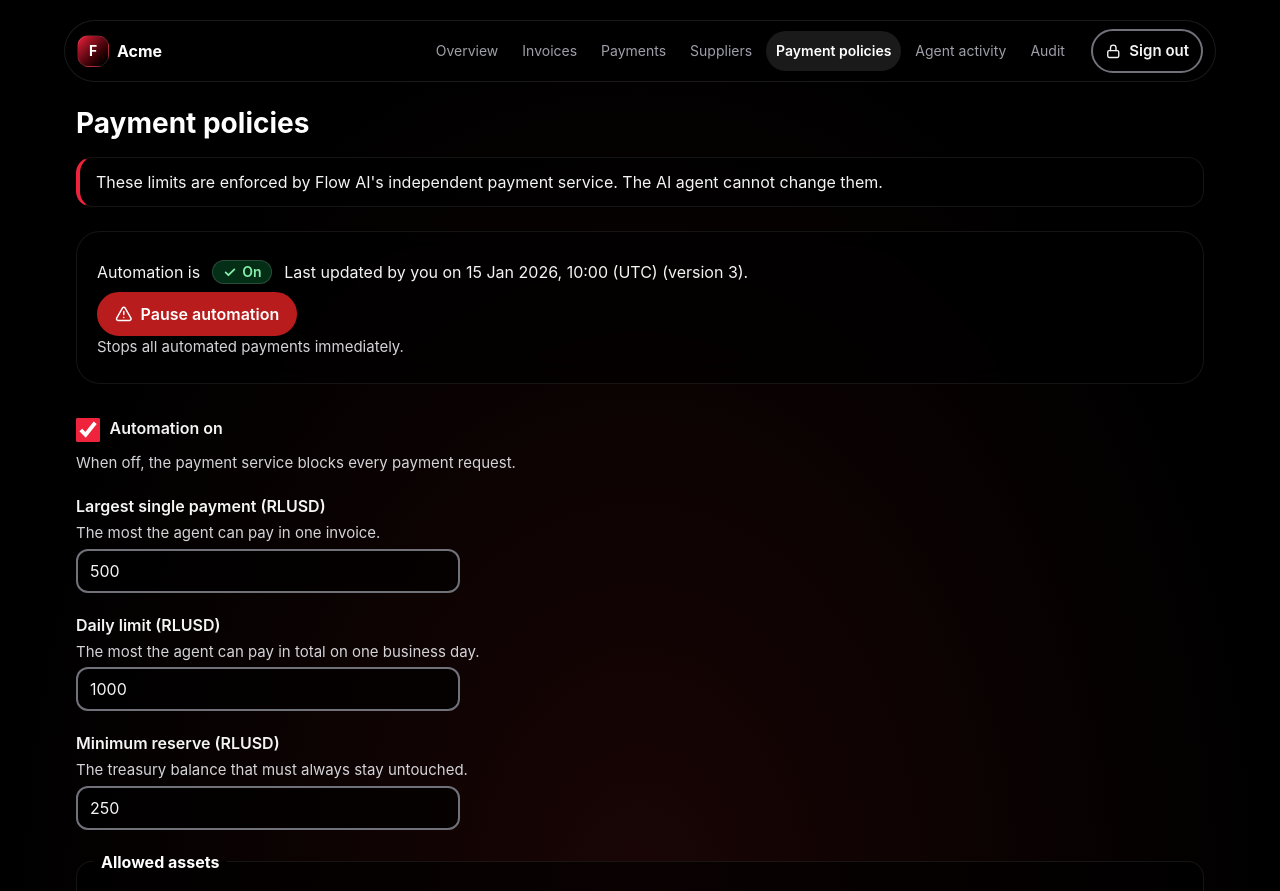
keyboard-only journeys › policy: a validation error moves focus to the error summary and its link reaches the field
Replace the text in the field labelled "Largest single payment (RLUSD)" with "5000" at coordinates (268, 570), box [76,548,460,592]
(page scrolled)
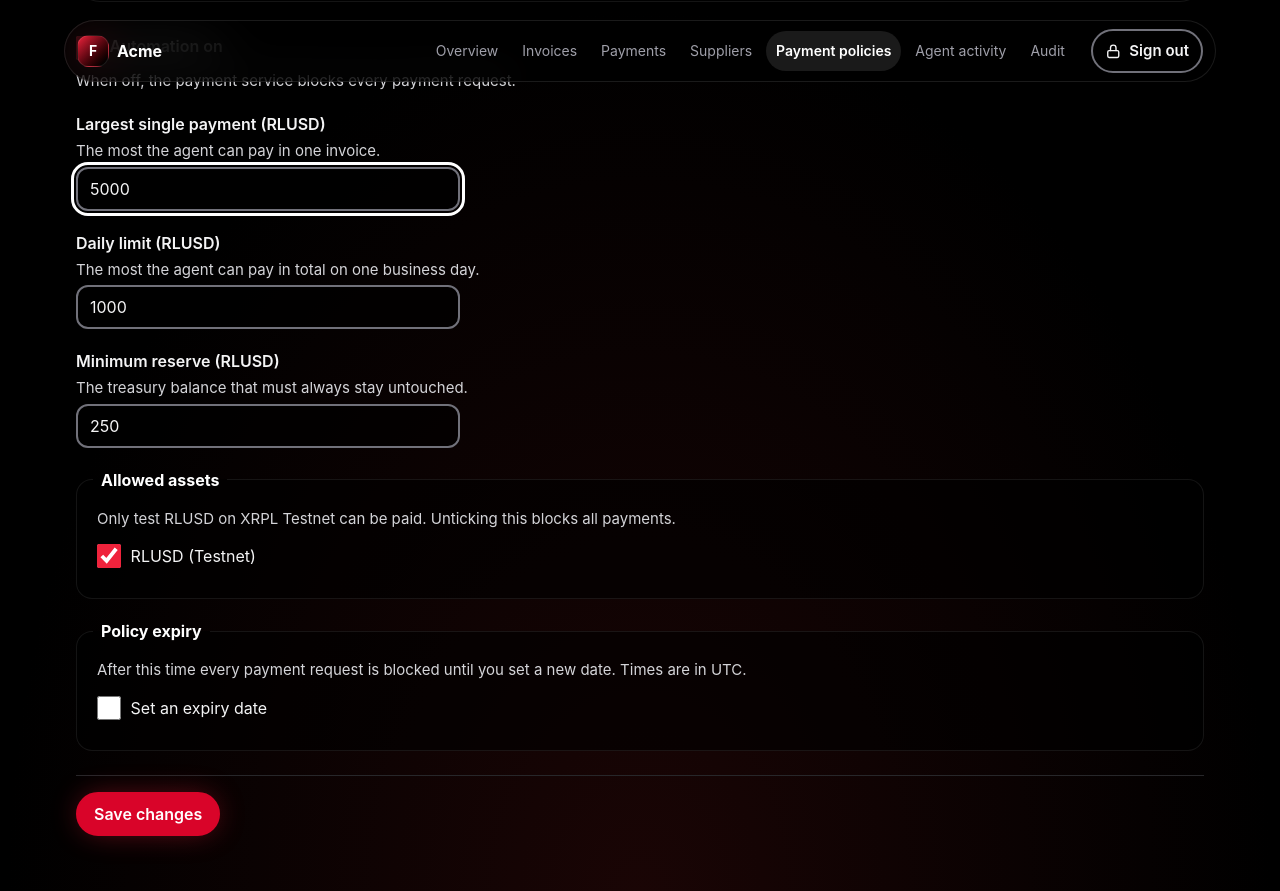
Click the button "Save changes" at coordinates (148, 814), box [76,792,220,836]
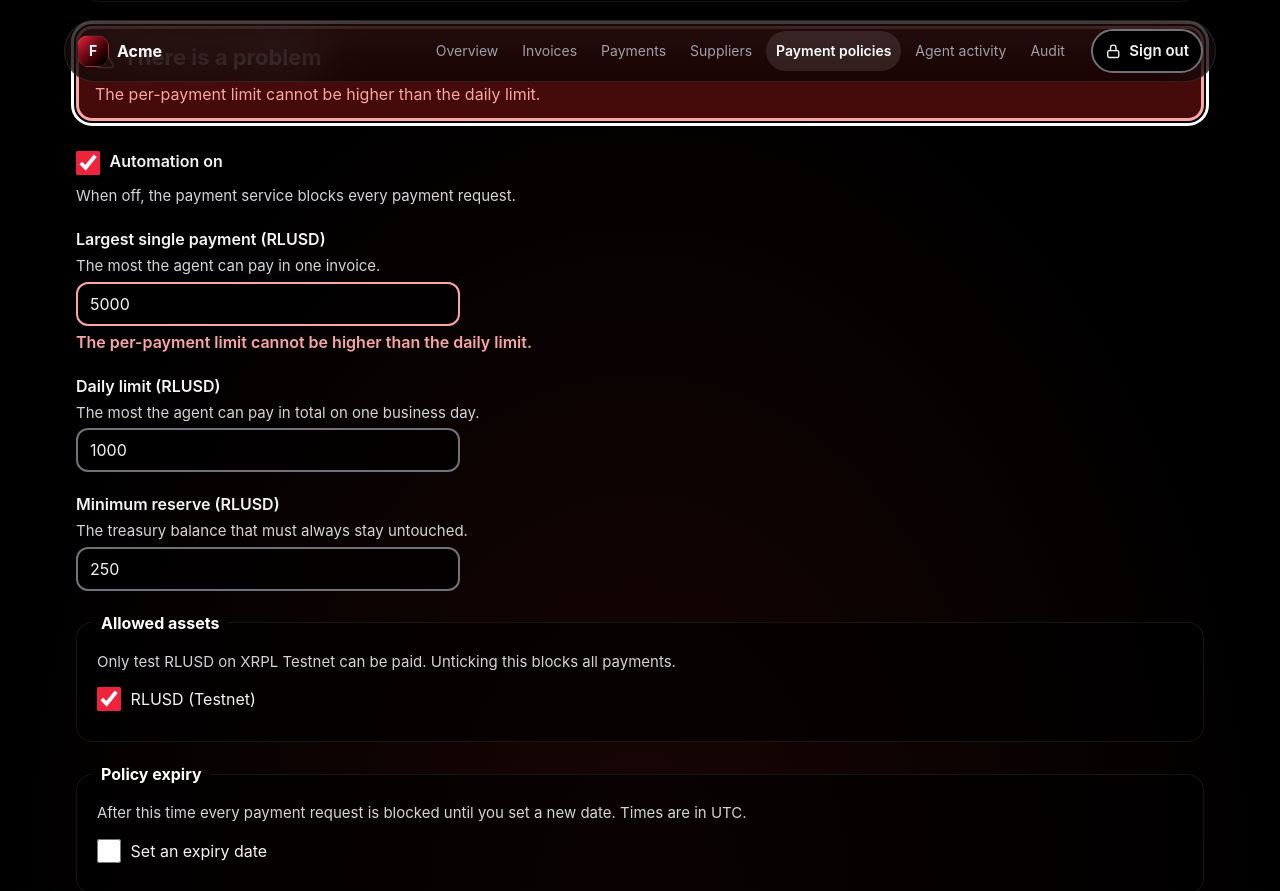
Result: the message shows "cannot be higher than the daily limit" at [95,84,540,104]
